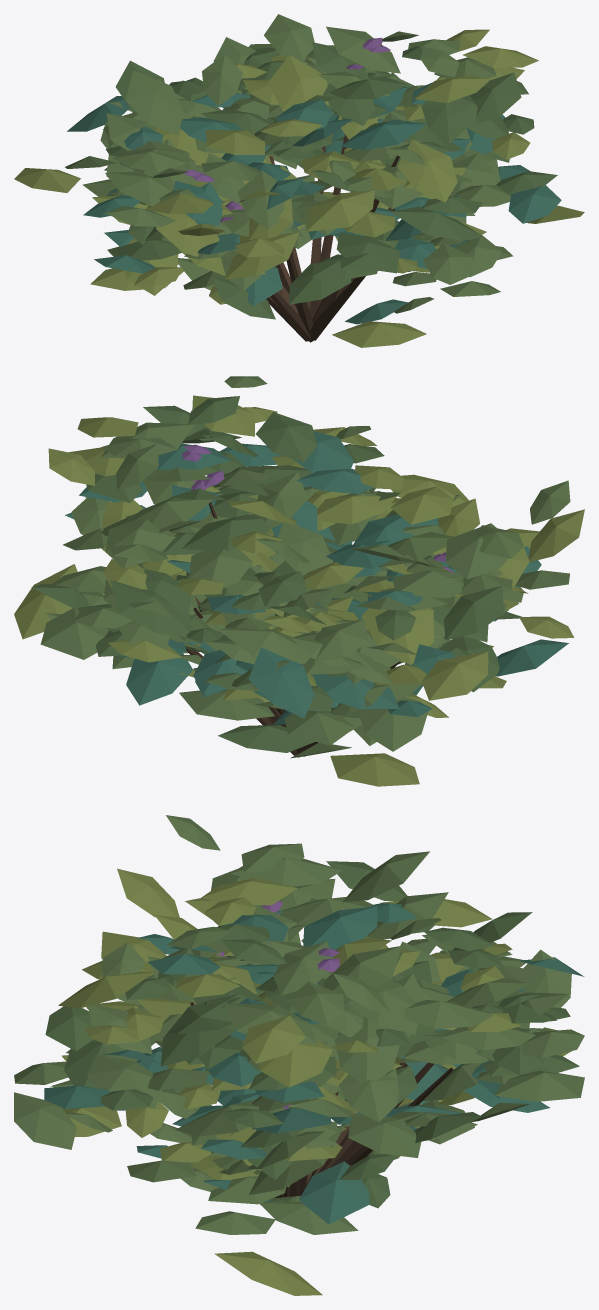
Rendered from reference_low_shrub_b.glb.
The picture shows the model from 3 angles, top to bottom: view 1: azimuth 30°, elevation 25°; view 2: azimuth 150°, elevation 25°; view 3: azimuth 270°, elevation 25°; orthographic projection. The views are drawn at different scales.
Visible parts, largest first — view 1: Low_Shrub_B; view 2: Low_Shrub_B; view 3: Low_Shrub_B.
Part boxes in pixels (x1,y1,x2,y2): Low_Shrub_B: [14, 14, 584, 347]; Low_Shrub_B: [14, 376, 584, 786]; Low_Shrub_B: [14, 815, 584, 1295].
Size of the model in its own units: 1.43 by 0.8272 by 1.25.
